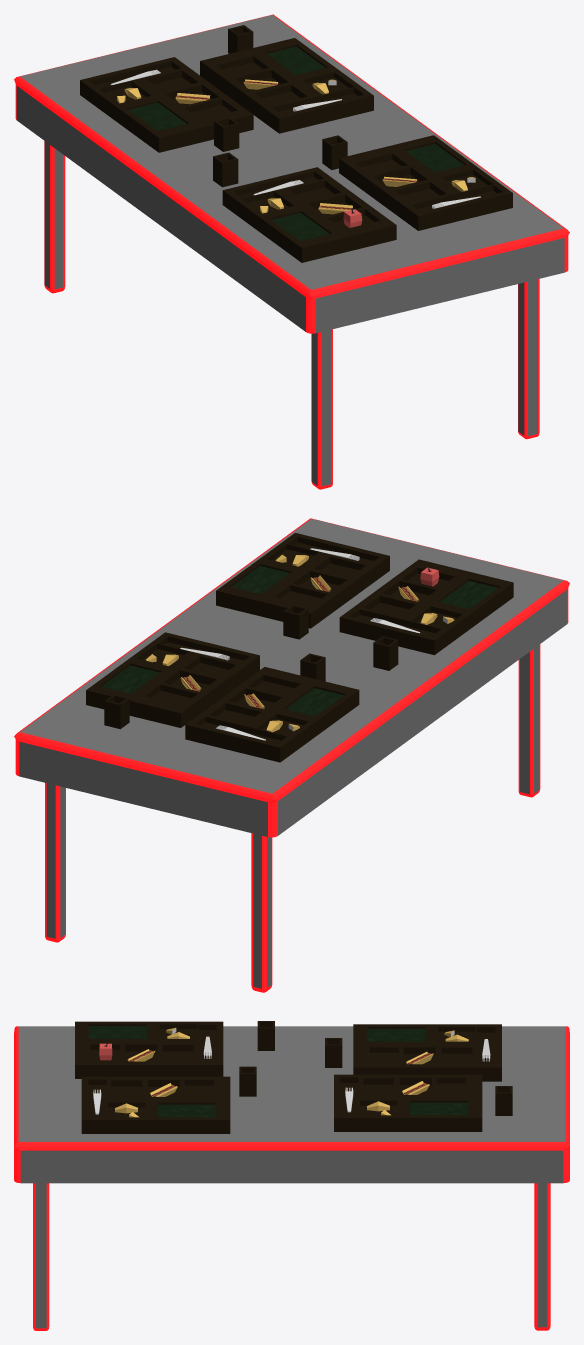
File: J_obs_TableFood.fbx
3 views of the same model, one above another, from view 1: azimuth 30°, elevation 25°; view 2: azimuth 150°, elevation 25°; view 3: azimuth 270°, elevation 25° (orthographic). The views are drawn at different scales.
Parts seen in each view (by area): view 1: Cube.033; view 2: Cube.033; view 3: Cube.033.
Boxes of the visible parts, x1=… form: Cube.033: x1=14, y1=14, x2=569, y2=489; Cube.033: x1=14, y1=518, x2=569, y2=992; Cube.033: x1=14, y1=1021, x2=569, y2=1330.
Bounding box in the file's own units: 101 × 87.49 × 199.
